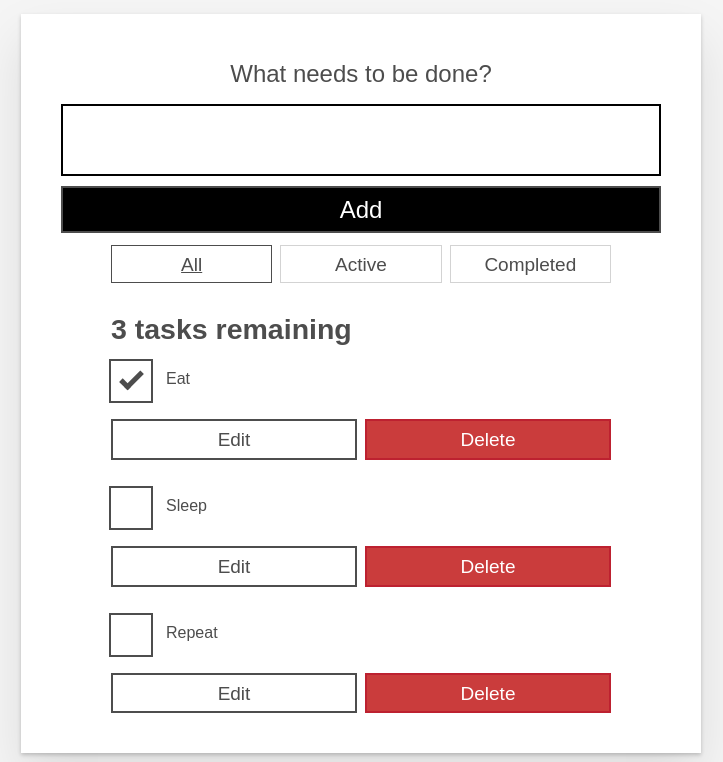
Test: todo management › allows to delete a task
Expected: the number of list items with class "todo" is 3, [111, 361, 611, 460]; [111, 488, 611, 587]; [111, 615, 611, 713]
Expected: the list item with class "todo" shows "Eat", [111, 361, 611, 460]
Click the 1st button "Delete" at (488,440), box [365, 419, 611, 460]
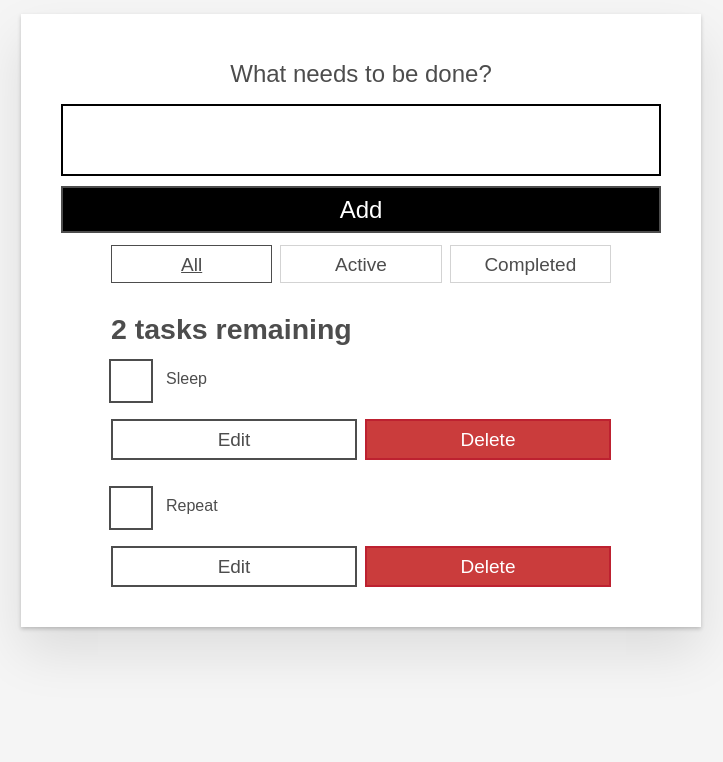
Expected: the element with class "todo" does not show "Eat"
Now the number of list items with class "todo" is 2, box [111, 361, 611, 460]; [111, 488, 611, 587]
